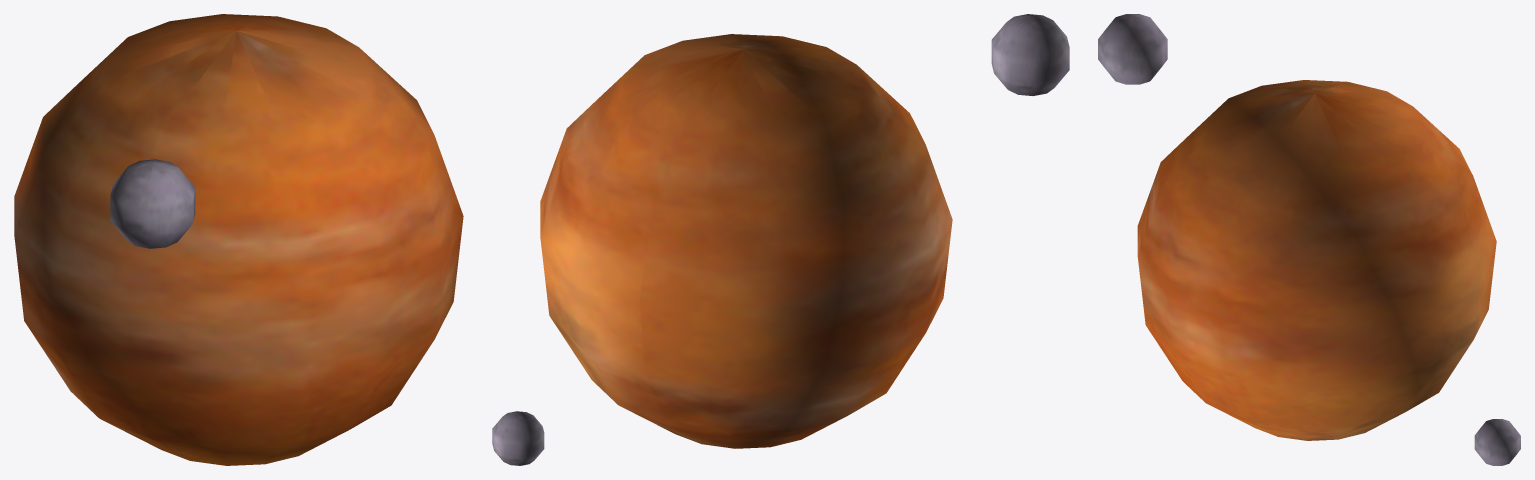
Rendered from static.icn.obj.
3 renders of one model, left to right at view 1: azimuth 30°, elevation 25°; view 2: azimuth 150°, elevation 25°; view 3: azimuth 270°, elevation 25°, orthographic. The views are drawn at different scales.
Size of the model in its own units: 1.63 by 1.5 by 1.74.
1 material, 1 textured.
